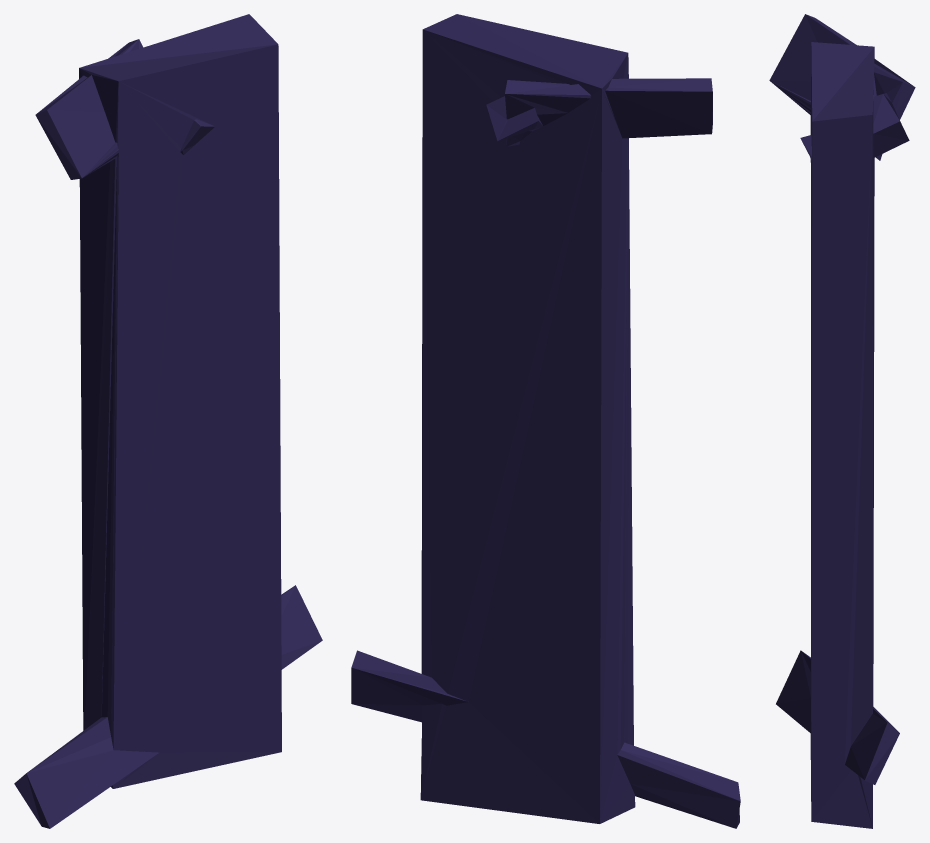
3 views of the same model, side by side, from view 1: azimuth 30°, elevation 25°; view 2: azimuth 150°, elevation 25°; view 3: azimuth 270°, elevation 25° (orthographic). The views are drawn at different scales.
Visible parts, largest first — view 1: 147_Cube.613; view 2: 147_Cube.613; view 3: 147_Cube.613.
Boxes of the visible parts, x1=… form: 147_Cube.613: x1=14, y1=14, x2=322, y2=828; 147_Cube.613: x1=351, y1=14, x2=740, y2=828; 147_Cube.613: x1=769, y1=14, x2=915, y2=828.
Bounding box in the file's own units: 6.04 × 12.4 × 2.3.
